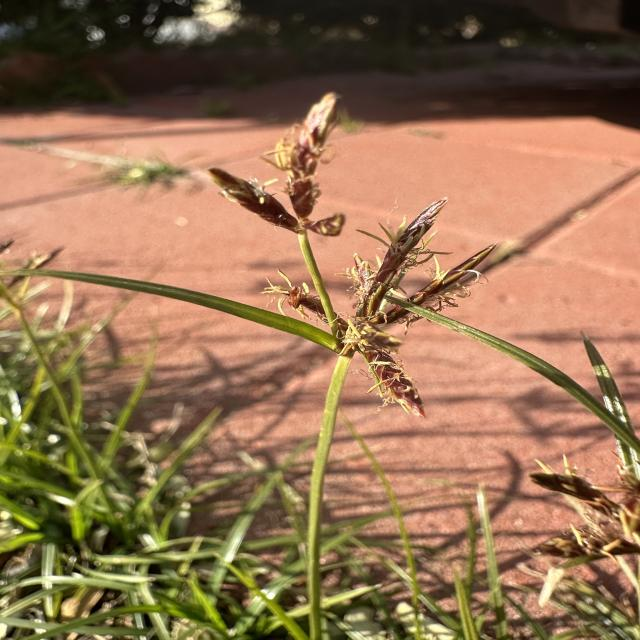cyperus: (192, 78, 490, 405), (515, 434, 640, 607)
